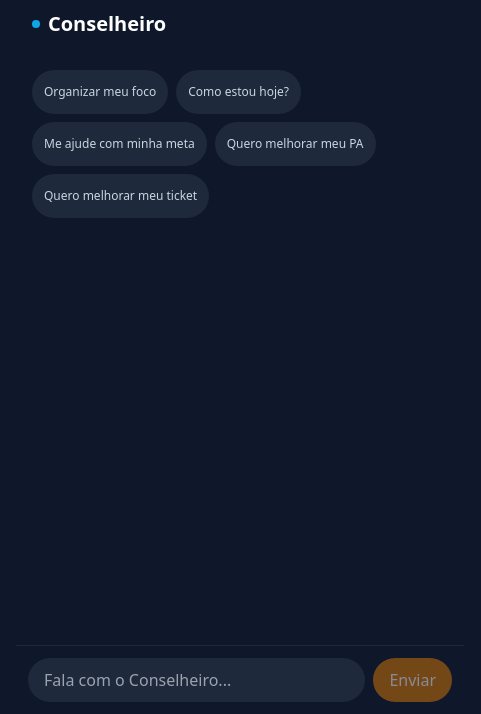
Test: Coach › mostra mensagem de erro amigável por tipo e mantém o texto pra tentar de novo quando o envio falha
Type "Minha pergunta" into the field with placeholder "Fala com o Conselheiro..." at (197, 680), box [28,658,365,702]
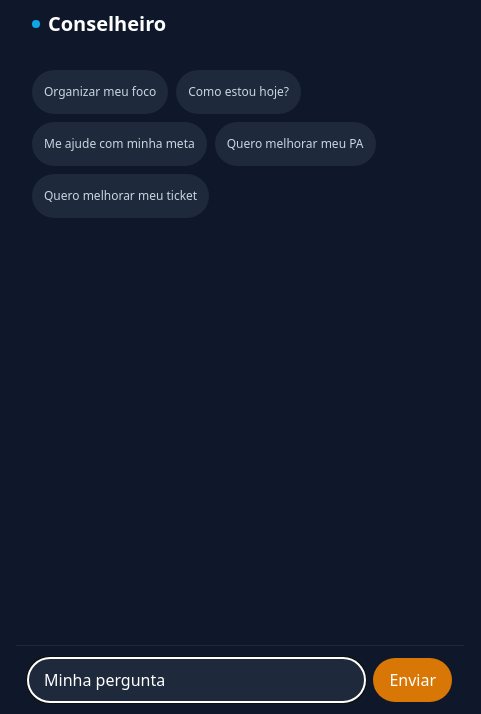
Click the button "Enviar" at (413, 680), box [373,658,452,702]
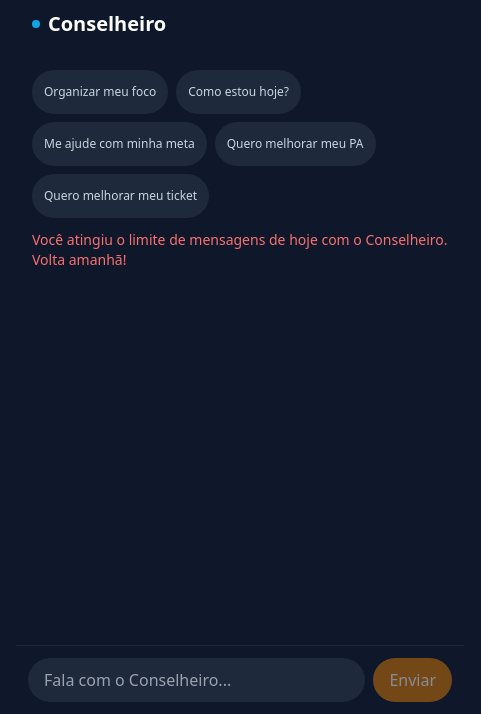
Expected: the text "Minha pergunta" is not shown
Expected: the message reads "Você atingiu o limite de mensagens de hoje com o Conselheiro. Volta amanhã!", [32,230,448,269]
